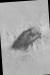M41: (2, 0, 48, 74)
